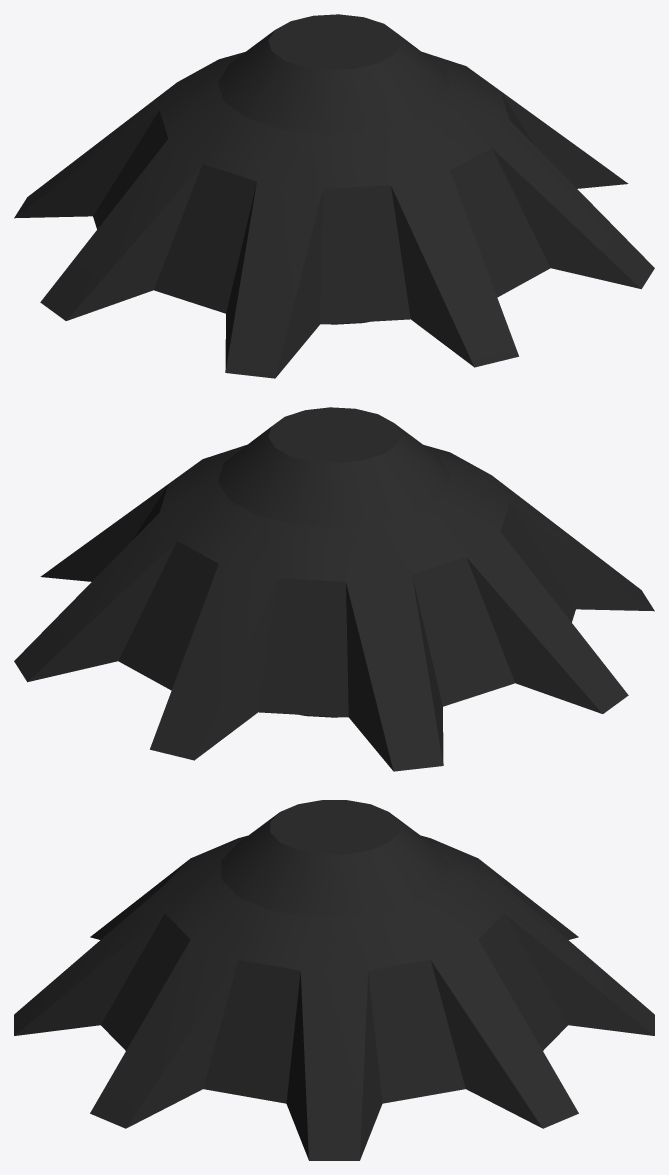
Rendered from Tantares_DockingMechanism_1_Guide.obj.
The picture shows the model from 3 angles, top to bottom: view 1: azimuth 30°, elevation 25°; view 2: azimuth 150°, elevation 25°; view 3: azimuth 270°, elevation 25°; orthographic projection.
Parts seen in each view (by area): view 1: Tantares_DockingMechanism_1_Guide; view 2: Tantares_DockingMechanism_1_Guide; view 3: Tantares_DockingMechanism_1_Guide.
Boxes of the visible parts, x1=… form: Tantares_DockingMechanism_1_Guide: x1=14, y1=14, x2=654, y2=378; Tantares_DockingMechanism_1_Guide: x1=14, y1=407, x2=654, y2=771; Tantares_DockingMechanism_1_Guide: x1=14, y1=800, x2=654, y2=1160.
Size of the model in its own units: 0.425 by 0.17 by 0.425.
